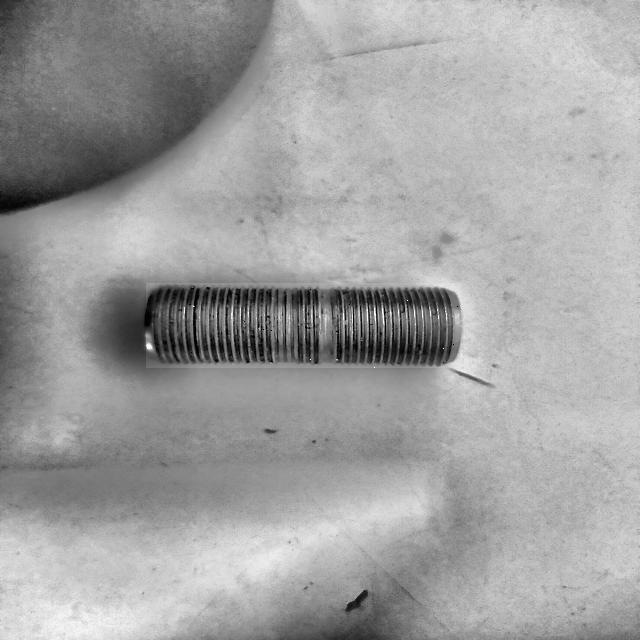Broken: (146, 283, 462, 368)
